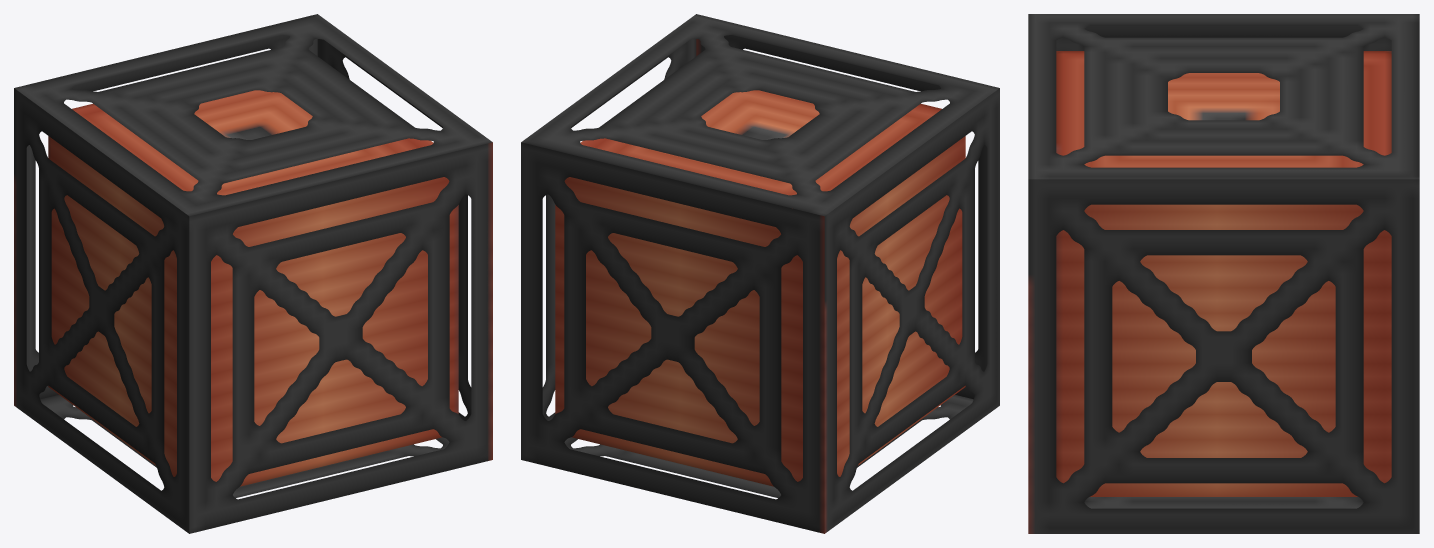
The model's file is pack_capacitor_copper.obj.
The picture shows the model from 3 angles, left to right: view 1: azimuth 30°, elevation 25°; view 2: azimuth 150°, elevation 25°; view 3: azimuth 270°, elevation 25°; orthographic projection. The views are drawn at different scales.
Bounding box in the file's own units: 1.75 × 1.75 × 1.75.
